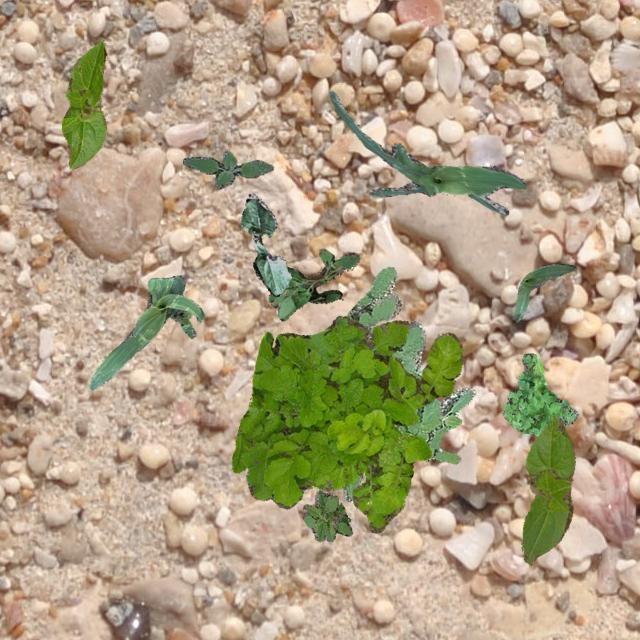crop: (327, 90, 526, 214), (88, 274, 204, 390), (520, 416, 574, 564), (61, 39, 106, 168), (240, 192, 290, 296), (512, 262, 576, 322), (341, 469, 363, 502)
weed: (230, 314, 462, 532), (344, 266, 474, 462), (268, 248, 358, 320), (502, 352, 578, 434), (182, 150, 272, 188), (300, 488, 352, 540)
